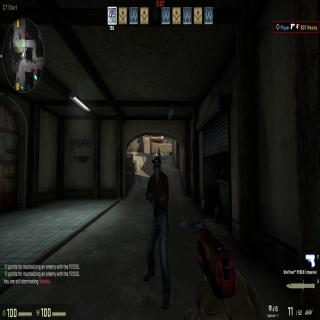T-Body: (146, 151, 173, 305)
T-Head: (150, 154, 165, 178)
